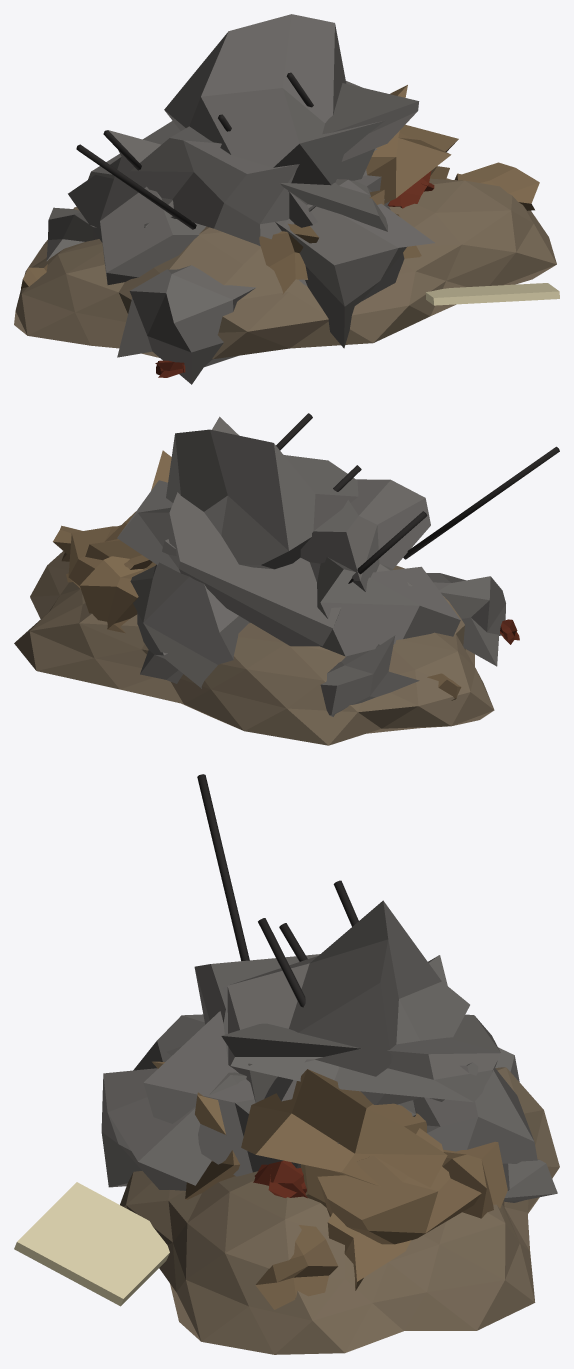
Rendered from cover_rubble_10.glb.
3 views of the same model, one above another, from view 1: azimuth 30°, elevation 25°; view 2: azimuth 150°, elevation 25°; view 3: azimuth 270°, elevation 25° (orthographic). The views are drawn at different scales.
Visible parts, largest first — view 1: mound, lump_29, lump_3, lump_11, lump_26, lump_6, slab, lump_20, lump_16, frame, lump_10, lump_24 (+5 smaller); view 2: mound, lump_29, slab, lump_6, lump_17, lump_3, lump_26, lump_23, lump_5, lump_9, lump_20, rebar_3 (+3 smaller); view 3: mound, lump_29, lump_20, slab, frame, lump_11, lump_16, lump_9, lump_17, lump_24, lump_5, lump_3 (+8 smaller).
Part boxes in pixels (box(x1,y1,x2,y2)): mound: box(14, 178, 556, 359); lump_29: box(164, 14, 384, 191); lump_3: box(127, 126, 307, 285); lump_11: box(275, 179, 434, 348); lump_26: box(117, 265, 255, 384); lump_6: box(68, 130, 205, 284); slab: box(88, 81, 419, 227); lump_20: box(366, 85, 451, 203); lump_16: box(280, 175, 390, 231); frame: box(425, 283, 559, 305); lump_10: box(259, 223, 318, 294); lump_24: box(454, 162, 539, 210); mound: box(14, 525, 494, 745); lump_29: box(166, 429, 358, 569); slab: box(117, 416, 412, 646); lump_6: box(309, 557, 460, 656); lump_17: box(130, 539, 250, 688); lump_3: box(300, 479, 430, 591); lump_26: box(426, 573, 505, 666); lump_23: box(320, 635, 419, 716); lump_5: box(79, 556, 144, 633); lump_9: box(68, 526, 152, 588); lump_20: box(85, 450, 171, 569); rebar_3: box(403, 446, 559, 559); mound: box(120, 1067, 559, 1354); lump_29: box(222, 900, 469, 1104); lump_20: box(241, 1069, 447, 1187); slab: box(221, 1014, 500, 1102); frame: box(14, 1182, 169, 1306); lump_11: box(101, 1068, 246, 1190); lump_16: box(143, 1011, 416, 1176); lump_9: box(317, 1128, 481, 1244); lump_17: box(413, 1062, 537, 1163); lump_24: box(255, 1225, 338, 1309); lump_5: box(442, 1141, 507, 1218); lump_3: box(194, 954, 319, 1024).
Bounding box in the file's own units: 2.28 × 1.12 × 1.77.
